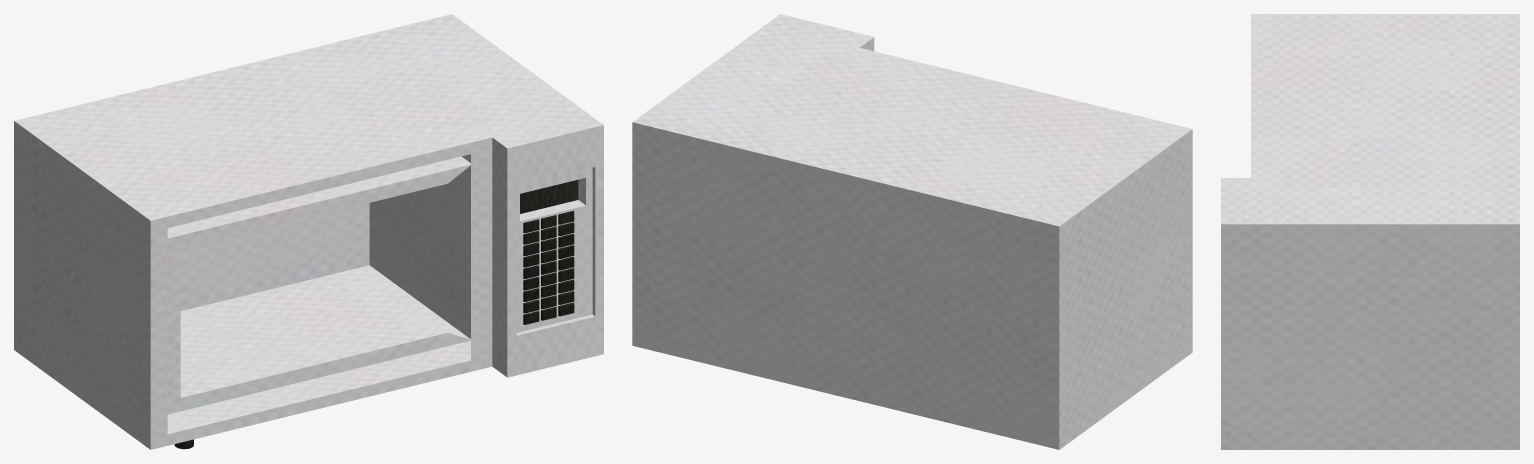
File: Microondas.obj
The picture shows the model from 3 angles, left to right: view 1: azimuth 30°, elevation 25°; view 2: azimuth 150°, elevation 25°; view 3: azimuth 270°, elevation 25°; orthographic projection. The views are drawn at different scales.
Parts seen in each view (by area): view 1: polySurface81 Mesh1; view 2: polySurface81 Mesh1; view 3: polySurface81 Mesh1.
Part boxes in pixels (x1,y1,x2,y2): polySurface81 Mesh1: (14, 14, 603, 449); polySurface81 Mesh1: (632, 14, 1192, 449); polySurface81 Mesh1: (1221, 14, 1519, 449).
Bounding box in the file's own units: 0.4822 × 0.255 × 0.2893.
Materials: 2 (2 with a texture image).
